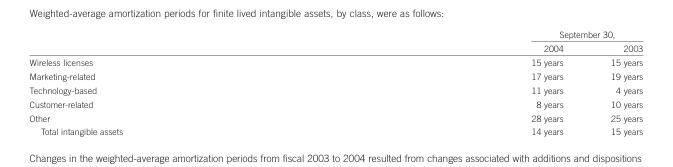table: (28, 28, 642, 136)
table column: (28, 28, 326, 136), (326, 28, 586, 136), (586, 28, 642, 136)
table column header: (28, 28, 642, 54)
table row: (28, 40, 642, 54), (28, 54, 642, 68), (28, 68, 642, 82), (28, 82, 642, 96), (28, 96, 642, 110), (28, 110, 642, 124), (28, 28, 642, 40), (28, 124, 642, 136)
table spanning cell: (326, 28, 642, 40)
